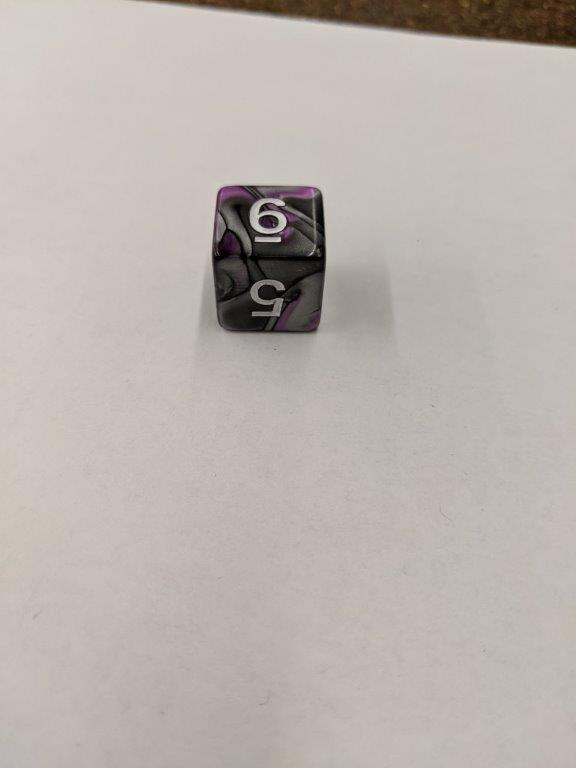d6-6: (215, 185, 326, 339)
